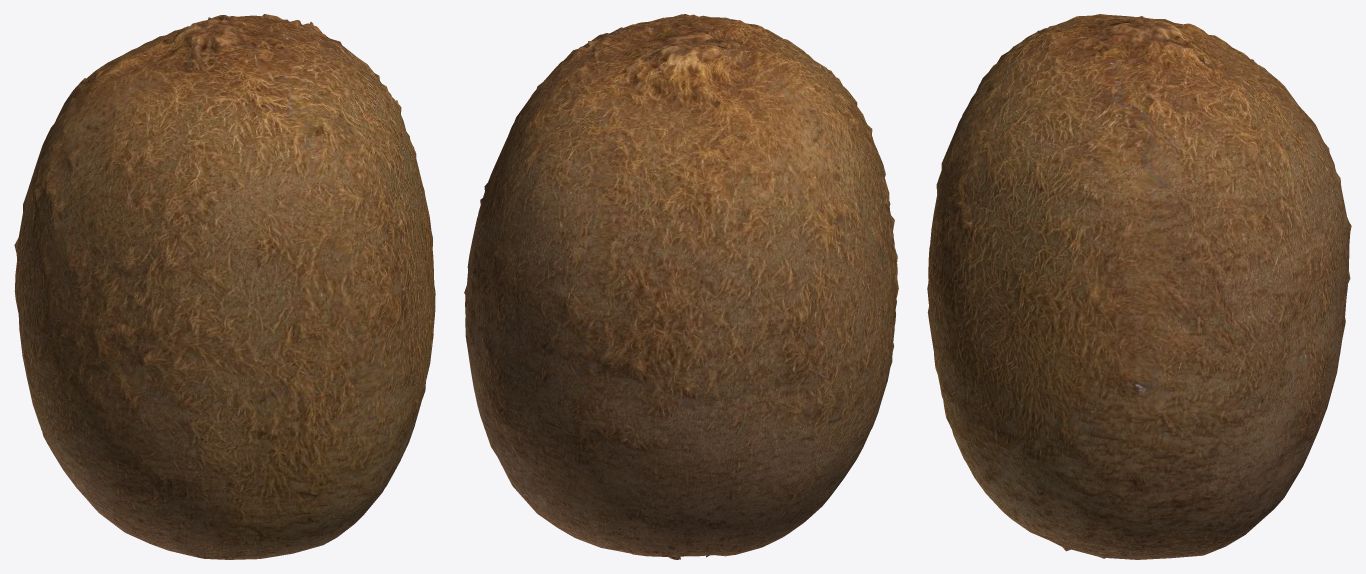
The model's file is kiwi.glb.
3 views of the same model, side by side, from view 1: azimuth 30°, elevation 25°; view 2: azimuth 150°, elevation 25°; view 3: azimuth 270°, elevation 25° (orthographic).
Visible parts, largest first — view 1: food_kiwi_01; view 2: food_kiwi_01; view 3: food_kiwi_01.
Boxes of the visible parts, box(x1,y1,x2,y2) form: food_kiwi_01: box(14, 14, 435, 559); food_kiwi_01: box(464, 14, 898, 559); food_kiwi_01: box(927, 14, 1351, 559).
Size of the model in its own units: 0.0695 by 0.0901 by 0.0686.
1 material, 1 textured.
